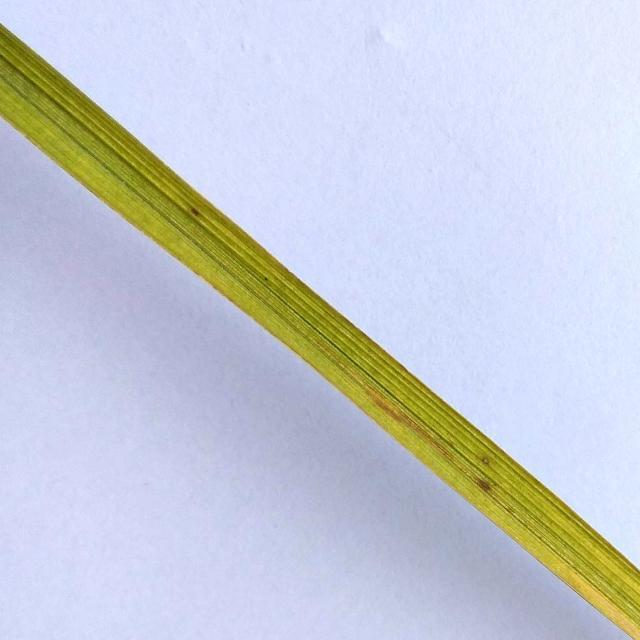brownspots: (472, 469, 498, 501), (180, 201, 203, 221)
